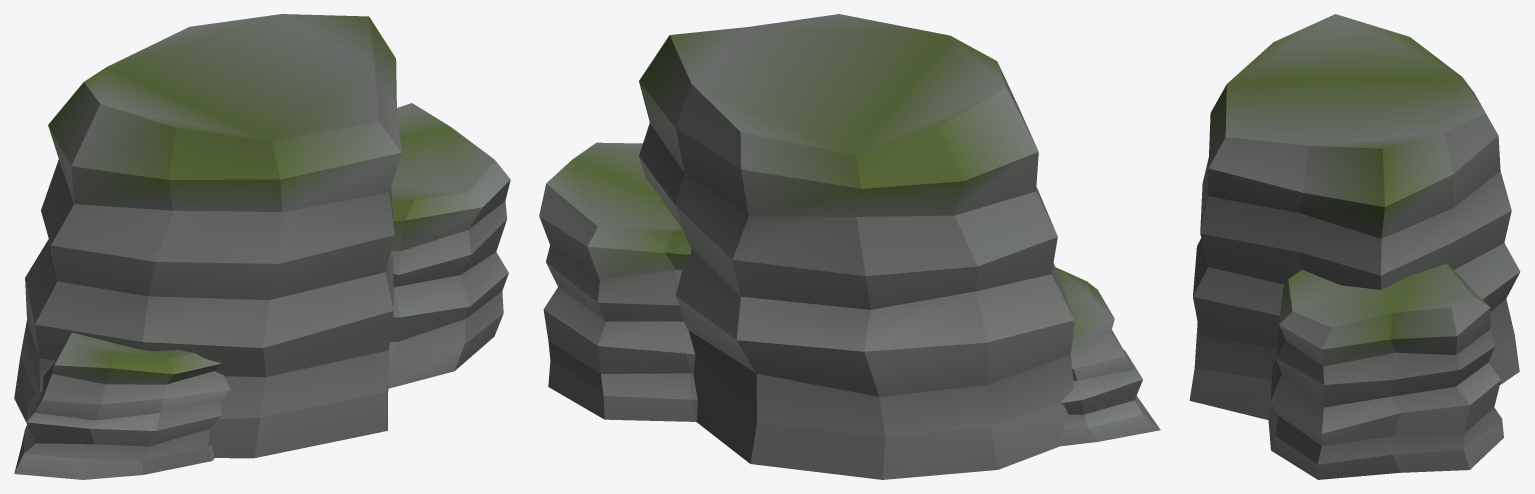
Rendered from Boulder_variant_3.glb.
3 renders of one model, left to right at view 1: azimuth 30°, elevation 25°; view 2: azimuth 150°, elevation 25°; view 3: azimuth 270°, elevation 25°, orthographic. The views are drawn at different scales.
Visible parts, largest first — view 1: Boulder_variant_3; view 2: Boulder_variant_3; view 3: Boulder_variant_3.
Boxes of the visible parts, x1,y1,x2,y2 form: Boulder_variant_3: [14, 14, 510, 479]; Boulder_variant_3: [539, 14, 1160, 479]; Boulder_variant_3: [1189, 14, 1520, 479].
Size of the model in its own units: 2.08 by 1.22 by 1.25.
